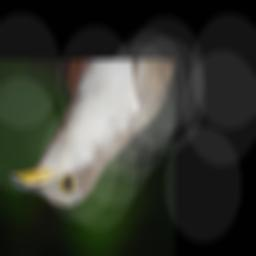Cuckoo: (10, 61, 176, 208)
